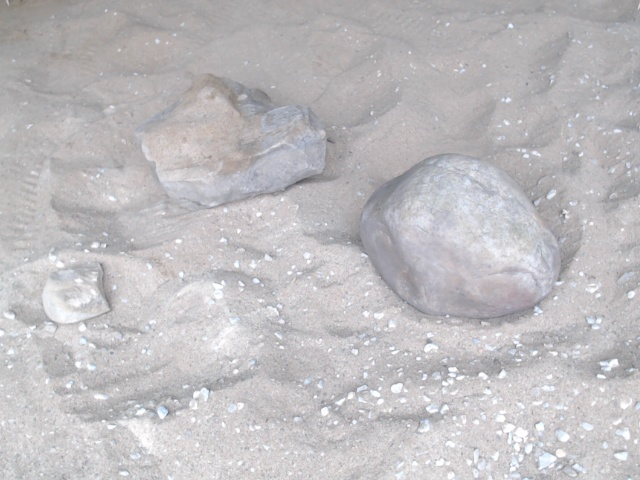rock: (353, 145, 565, 324), (130, 68, 334, 217), (38, 257, 115, 329)
